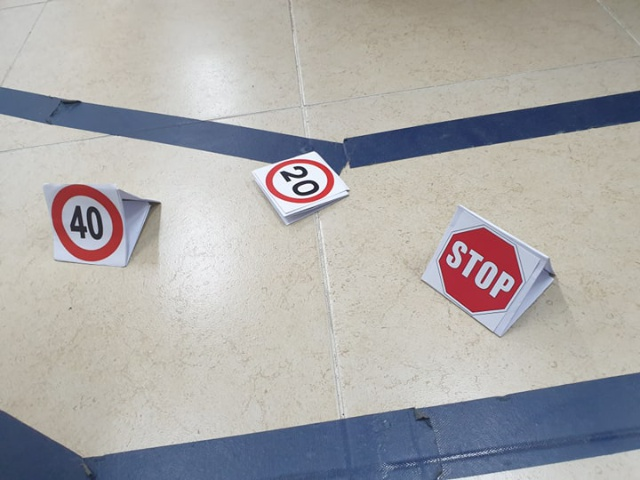Limit 20: (268, 160, 334, 201)
Limit 40: (49, 182, 125, 265)
Stop: (439, 225, 525, 314)
